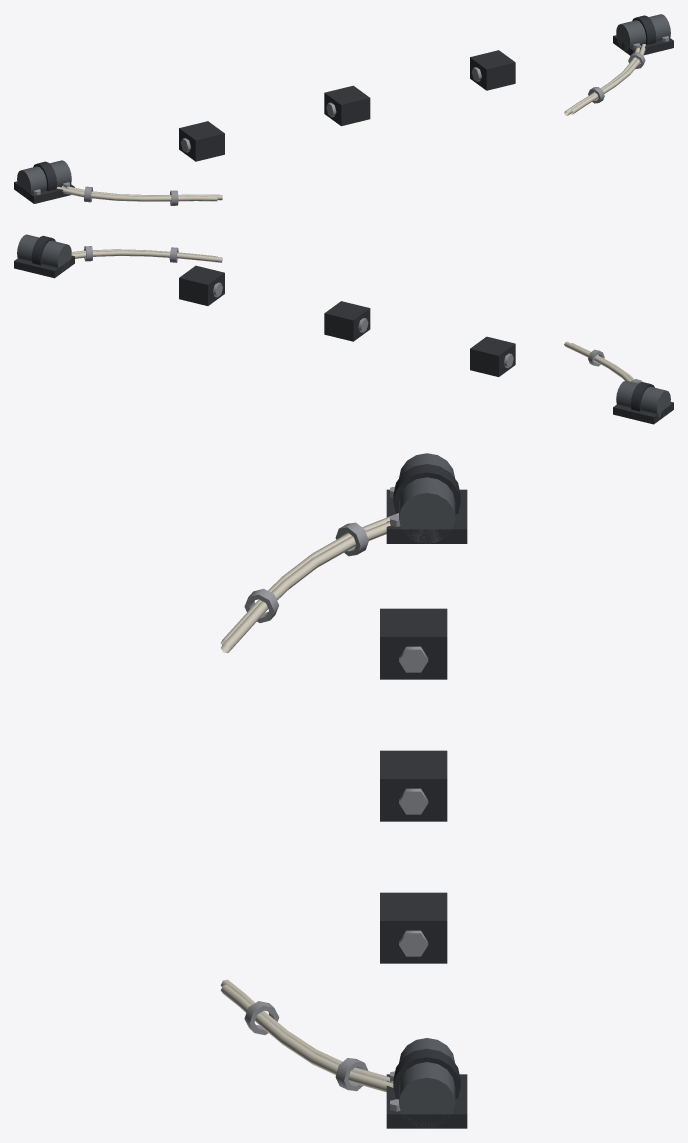
File: rp10_hinge.obj
The picture shows the model from 3 angles, top to bottom: view 1: azimuth 30°, elevation 25°; view 2: azimuth 150°, elevation 25°; view 3: azimuth 270°, elevation 25°; orthographic projection. The views are drawn at different scales.
Parts seen in each view (by area): view 1: rp10_hinge; view 2: rp10_hinge; view 3: rp10_hinge.
Part boxes in pixels (box(x1,y1,x2,y2)): rp10_hinge: box(14, 14, 673, 205); rp10_hinge: box(14, 234, 673, 424); rp10_hinge: box(220, 453, 467, 1128).
Bounding box in the file's own units: 2.2 × 0.109 × 0.3673.
